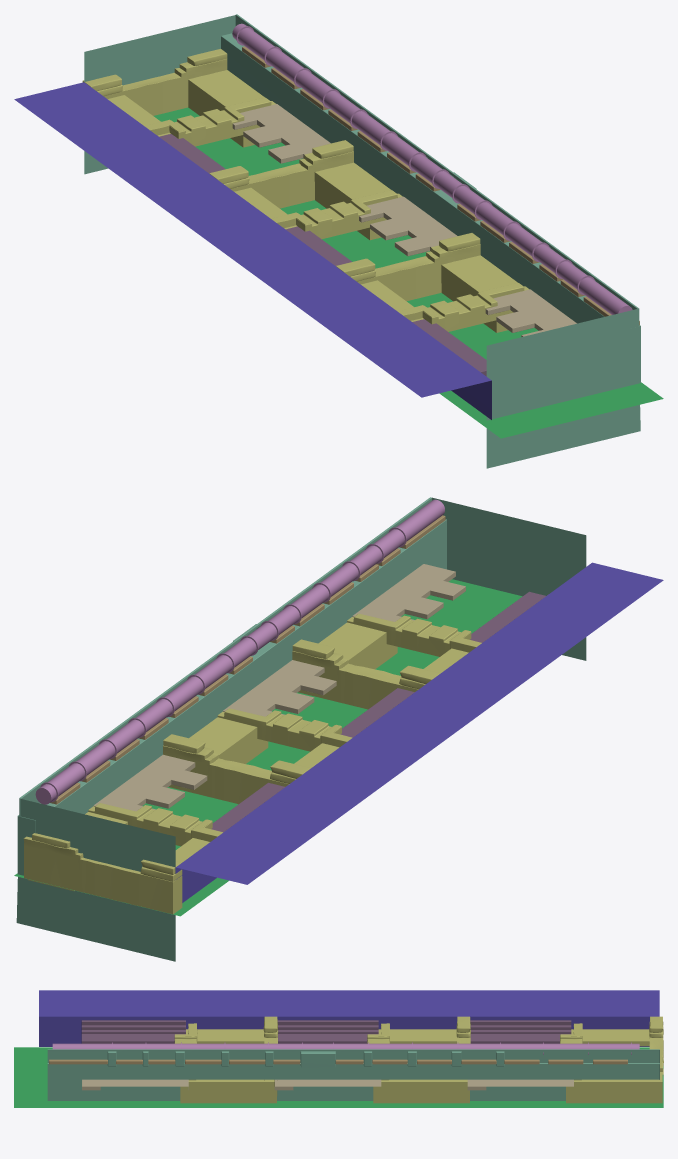
Rendered from !PH_Environment.fbx.
The picture shows the model from 3 angles, top to bottom: view 1: azimuth 30°, elevation 25°; view 2: azimuth 150°, elevation 25°; view 3: azimuth 270°, elevation 25°; orthographic projection. The views are drawn at different scales.
Visible parts, largest first — view 1: p_environment1073, p_environment1071, p_environment1, p_environment1078, p_environment1069, p_environment1080, p_environment1067, p_environment1068, p_environment1079, p_environment1076, p_environment1066, p_environment1077 (+2 smaller); view 2: p_environment1073, p_environment1071, p_environment1080, p_environment1078, p_environment1069, p_environment1067, p_environment1, p_environment1076, p_environment1068, p_environment1079, p_environment1066, p_environment1077 (+2 smaller); view 3: p_environment1073, p_environment1071, p_environment1, p_environment1080, p_environment1067, p_environment1069, p_environment1078, p_environment1066, p_environment1077, p_environment1081, p_environment1070, p_environment1068 (+2 smaller).
Part boxes in pixels (x1,y1,x2,y2): p_environment1073: (84,14,640,468); p_environment1071: (14,82,491,419); p_environment1: (153,107,663,438); p_environment1078: (336,233,529,332); p_environment1069: (209,140,402,240); p_environment1080: (82,49,275,147); p_environment1067: (232,23,632,314); p_environment1068: (359,196,457,256); p_environment1079: (232,104,330,163); p_environment1076: (485,289,576,336); p_environment1066: (242,46,639,325); p_environment1077: (409,319,486,376); p_environment1073: (16,497,586,961); p_environment1071: (175,562,663,902); p_environment1080: (23,803,222,914); p_environment1078: (292,613,481,709); p_environment1069: (163,708,352,804); p_environment1067: (35,499,444,804); p_environment1: (14,579,522,916); p_environment1076: (352,564,465,621); p_environment1068: (223,660,336,716); p_environment1079: (93,754,207,811); p_environment1066: (50,515,445,804); p_environment1077: (470,591,548,642); p_environment1073: (47,1049,659,1100); p_environment1071: (39,990,659,1046); p_environment1: (14,1047,663,1107); p_environment1080: (560,1016,663,1103); p_environment1067: (52,1042,639,1054); p_environment1069: (367,1016,470,1103); p_environment1078: (174,1016,278,1103); p_environment1066: (49,1059,627,1064); p_environment1077: (81,1020,185,1043); p_environment1081: (470,1020,571,1043); p_environment1070: (277,1020,378,1043); p_environment1068: (274,1079,381,1090).
Size of the model in its own units: 18.83 by 60.4 by 9.89.
